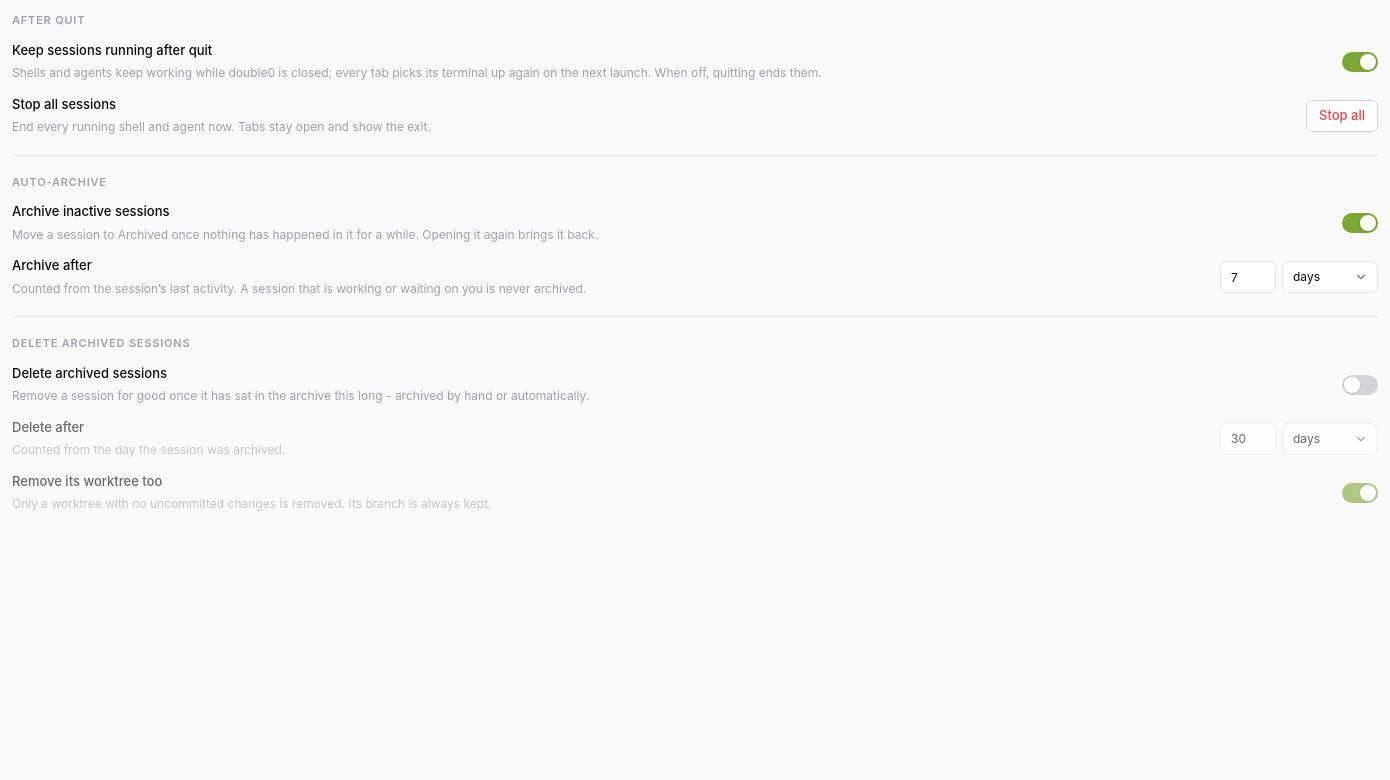
Test: SessionsSettingsSection › turns deletion on without asking when nothing has expired
Click the switch named "Delete archived sessions" at (1360, 384), box [1342,374,1378,394]
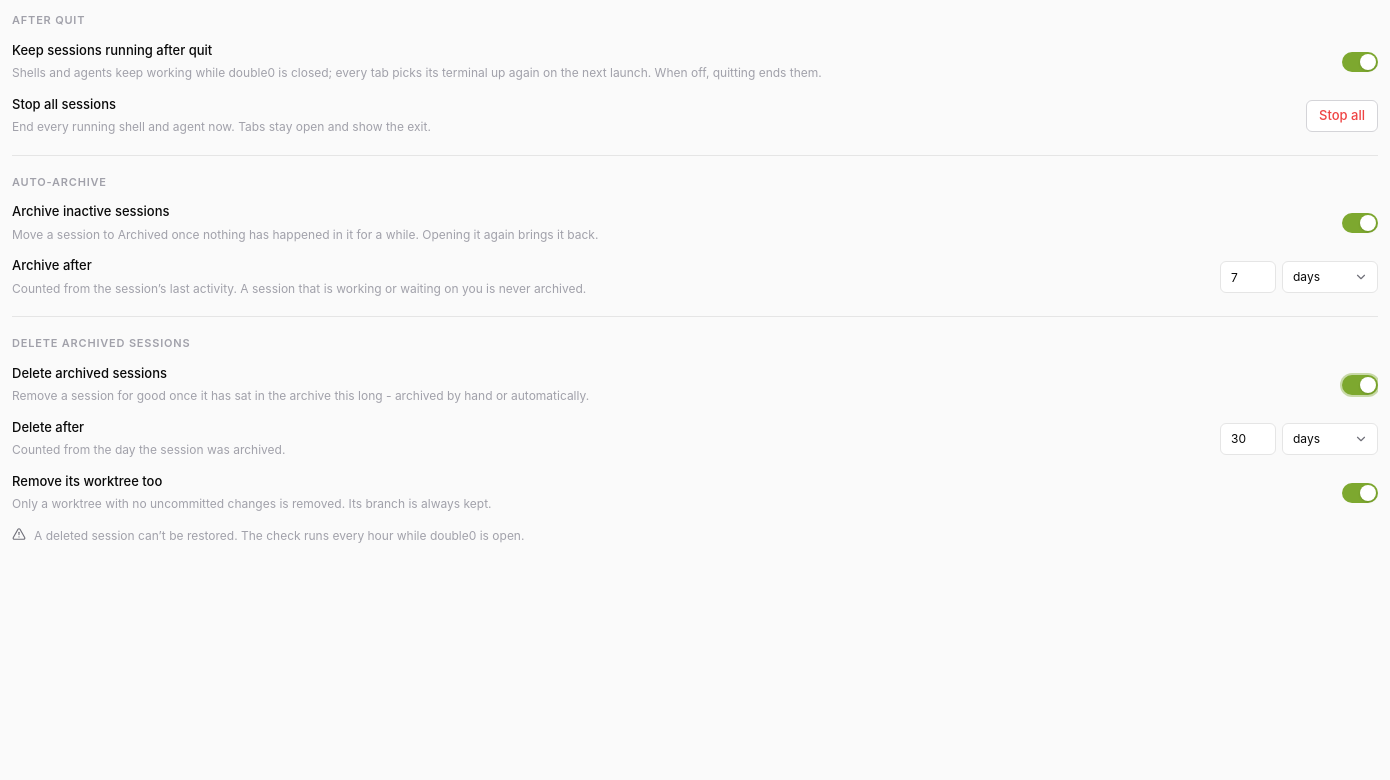
Check: the field named "Delete after amount" is enabled, box [1220,422,1276,454]
